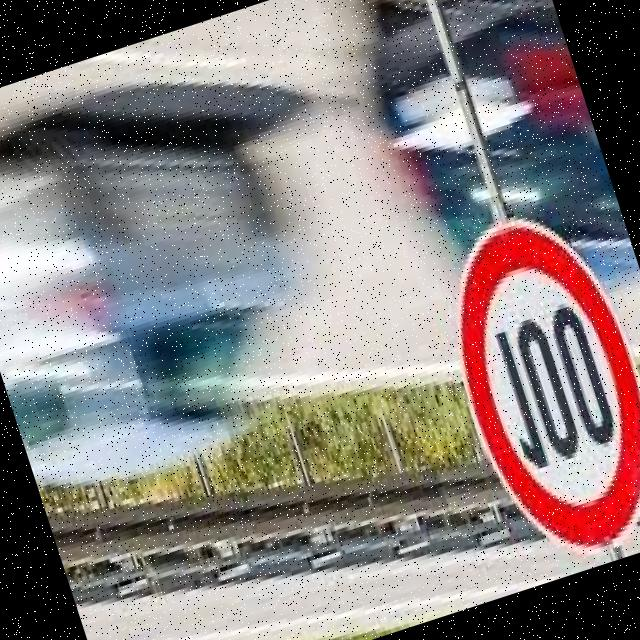speed_limit_100: (417, 195, 640, 581)
